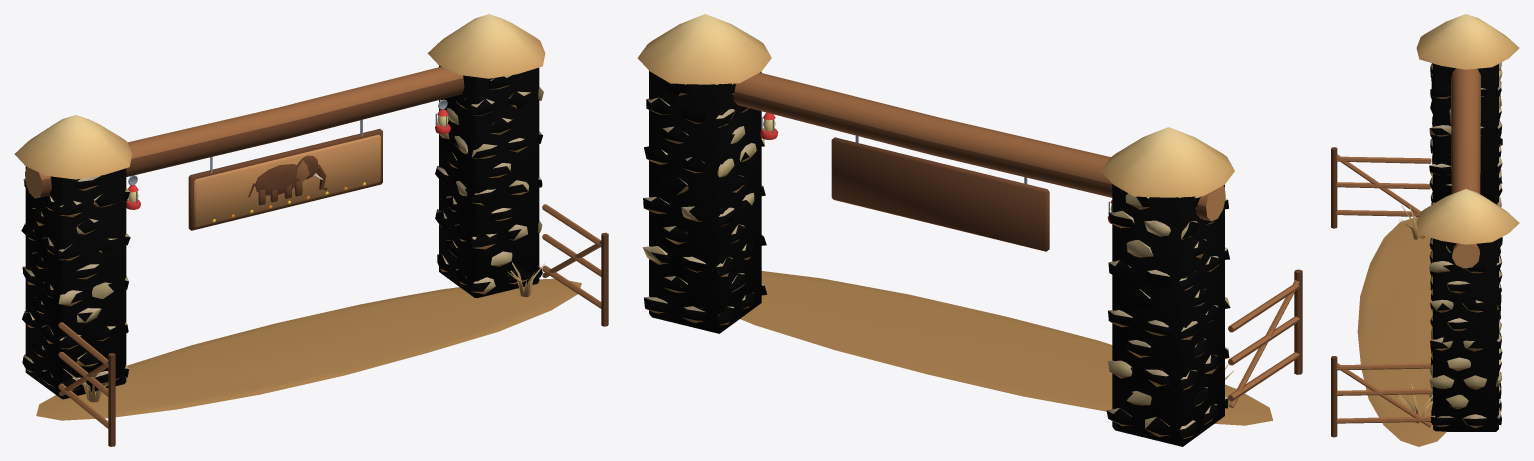
The model's file is SafariGate.fbx.
3 renders of one model, left to right at view 1: azimuth 30°, elevation 25°; view 2: azimuth 150°, elevation 25°; view 3: azimuth 270°, elevation 25°, orthographic. The views are drawn at different scales.
Parts seen in each view (by area): view 1: SafariGate; view 2: SafariGate; view 3: SafariGate.
Part boxes in pixels (left/top/right/bottom): SafariGate: left=14, top=14, right=608, bottom=446; SafariGate: left=638, top=14, right=1302, bottom=446; SafariGate: left=1331, top=14, right=1519, bottom=446.
Bounding box in the file's own units: 11.62 × 5.41 × 4.01.
2 materials, 2 textured.
